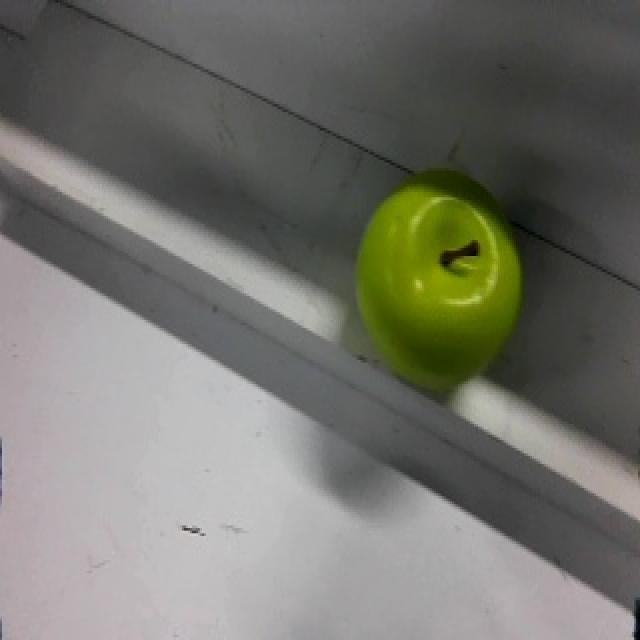apple: (353, 164, 526, 402)
